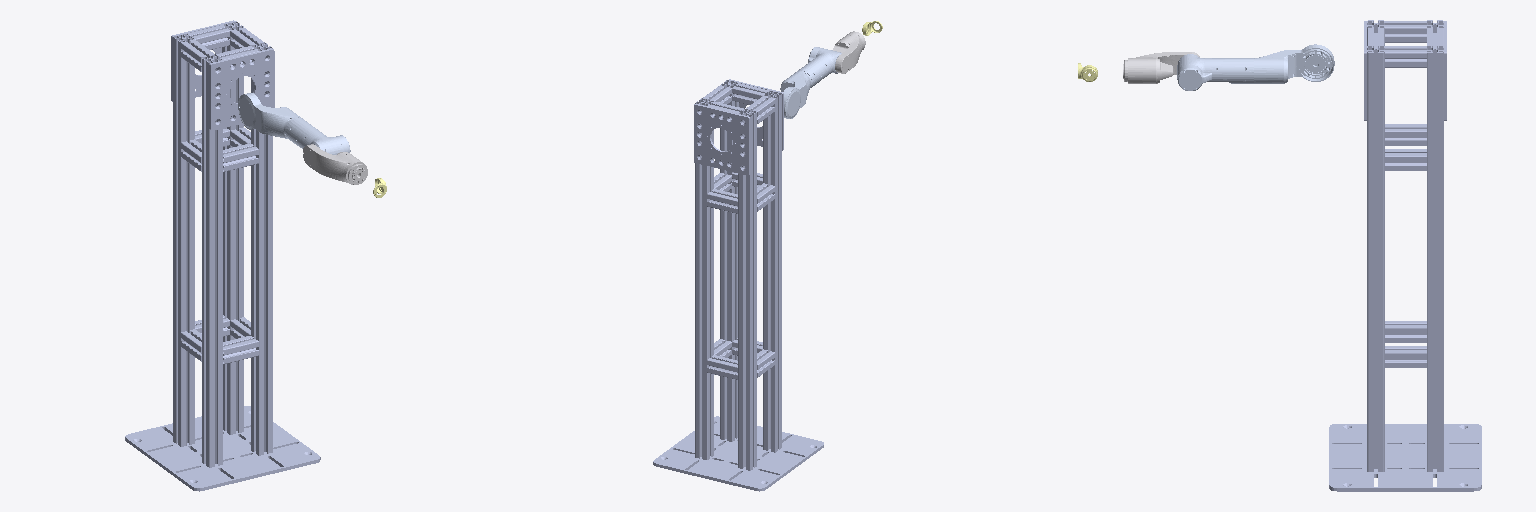
robot.urdf — taihu_arm_0430:
<?xml version="1.0" encoding="utf-8"?>
<!-- This URDF was automatically created by SolidWorks to URDF Exporter! Originally created by Stephen Brawner (brawner@gmail.com) 
     Commit Version: 1.6.0-4-g7f85cfe  Build Version: 1.6.7995.38578
     For more information, please see http://wiki.ros.org/sw_urdf_exporter -->
<robot
  name="taihu_arm_0430">
  <link
    name="base_link">
    <inertial>
      <origin
        xyz="-1.796E-05 6.0012E-06 -0.62307"
        rpy="0 0 0" />
      <mass
        value="8.6788" />
      <inertia
        ixx="0.27993"
        ixy="4.8177E-18"
        ixz="4.8851E-15"
        iyy="0.28183"
        iyz="-1.7321E-14"
        izz="0.043415" />
    </inertial>
    <visual>
      <origin
        xyz="0 0 0"
        rpy="0 0 0" />
      <geometry>
        <mesh
          filename="meshes/base_link.STL" />
      </geometry>
      <material
        name="">
        <color
          rgba="0.79216 0.81961 0.93333 1" />
      </material>
    </visual>
    <collision>
      <origin
        xyz="0 0 0"
        rpy="0 0 0" />
      <geometry>
        <mesh
          filename="meshes/base_link.STL" />
      </geometry>
    </collision>
  </link>




  <link
    name="right-link_arm_base">
    <inertial>
      <origin
        xyz="-4.097E-06 2.2217E-05 0.010632"
        rpy="0 0 0" />
      <mass
        value="1.8275" />
      <inertia
        ixx="0.00066436"
        ixy="5.7569E-08"
        ixz="-8.9382E-08"
        iyy="0.00066638"
        iyz="6.6242E-07"
        izz="0.00074477" />
    </inertial>
    <visual>
      <origin
        xyz="0 0 0"
        rpy="0 0 0" />
      <geometry>
        <mesh
          filename="meshes/right-link_arm_base.STL" />
      </geometry>
      <material
        name="">
        <color
          rgba="0.86667 0.9098 1 1" />
      </material>
    </visual>
    <collision>
      <origin
        xyz="0 0 0"
        rpy="0 0 0" />
      <geometry>
        <mesh
          filename="meshes/right-link_arm_base.STL" />
      </geometry>
    </collision>
  </link>
  <joint
    name="right-joint_arm_base"
    type="fixed">
    <origin
      xyz="0 -0.108 0"
      rpy="1.5708 0 0" />
    <parent
      link="base_link" />
    <child
      link="right-link_arm_base" />
    <axis
      xyz="0 0 0" />
  </joint>
  <link
    name="right-link_arm_1">
    <inertial>
      <origin
        xyz="1.2607E-05 0.001194 0.0088514"
        rpy="0 0 0" />
      <mass
        value="0.71111" />
      <inertia
        ixx="0.00089531"
        ixy="-4.0145E-07"
        ixz="2.0276E-07"
        iyy="0.00095129"
        iyz="-9.0856E-05"
        izz="0.00077837" />
    </inertial>
    <visual>
      <origin
        xyz="0 0 0"
        rpy="0 0 0" />
      <geometry>
        <mesh
          filename="meshes/right-link_arm_1.STL" />
      </geometry>
      <material
        name="">
        <color
          rgba="0.86667 0.9098 1 1" />
      </material>
    </visual>
    <collision>
      <origin
        xyz="0 0 0"
        rpy="0 0 0" />
      <geometry>
        <mesh
          filename="meshes/right-link_arm_1.STL" />
      </geometry>
    </collision>
  </link>
  <joint
    name="right-joint_arm_1"
    type="revolute">
    <origin
      xyz="0 0 0.128"
      rpy="3.1416 0 1.5708" />
    <parent
      link="right-link_arm_base" />
    <child
      link="right-link_arm_1" />
    <axis
      xyz="0 0 1" />
    <limit
      lower="-3.1"
      upper="3.1"
      effort="100"
      velocity="1" />
  </joint>
  <link
    name="right-link_arm_2">
    <inertial>
      <origin
        xyz="1.2945E-05 0.088857 -0.024165"
        rpy="0 0 0" />
      <mass
        value="2.2852" />
      <inertia
        ixx="0.0021126"
        ixy="3.9651E-07"
        ixz="7.5798E-08"
        iyy="0.00051326"
        iyz="-0.00045294"
        izz="0.0021734" />
    </inertial>
    <visual>
      <origin
        xyz="0 0 0"
        rpy="0 0 0" />
      <geometry>
        <mesh
          filename="meshes/right-link_arm_2.STL" />
      </geometry>
      <material
        name="">
        <color
          rgba="0.86667 0.9098 1 1" />
      </material>
    </visual>
    <collision>
      <origin
        xyz="0 0 0"
        rpy="0 0 0" />
      <geometry>
        <mesh
          filename="meshes/right-link_arm_2.STL" />
      </geometry>
    </collision>
  </link>
  <joint
    name="right-joint_arm_2"
    type="revolute">
    <origin
      xyz="0 0 0"
      rpy="-1.5708 0 0" />
    <parent
      link="right-link_arm_1" />
    <child
      link="right-link_arm_2" />
    <axis
      xyz="0 0 1" />
    <limit
      lower="-2.007"
      upper="2.007"
      effort="100"
      velocity="1" />
  </joint>
  <link
    name="right-link_arm_3">
    <inertial>
      <origin
        xyz="0.00035321 0.0021391 0.036651"
        rpy="0 0 0" />
      <mass
        value="0.47387" />
      <inertia
        ixx="0.0011486"
        ixy="-4.7435E-07"
        ixz="7.8389E-07"
        iyy="0.0010776"
        iyz="-4.5978E-05"
        izz="0.00024811" />
    </inertial>
    <visual>
      <origin
        xyz="0 0 0"
        rpy="0 0 0" />
      <geometry>
        <mesh
          filename="meshes/right-link_arm_3.STL" />
      </geometry>
      <material
        name="">
        <color
          rgba="0.86667 0.9098 1 1" />
      </material>
    </visual>
    <collision>
      <origin
        xyz="0 0 0"
        rpy="0 0 0" />
      <geometry>
        <mesh
          filename="meshes/right-link_arm_3.STL" />
      </geometry>
    </collision>
  </link>
  <joint
    name="right-joint_arm_3"
    type="revolute">
    <origin
      xyz="0 0.329 0"
      rpy="1.5708 0 0" />
    <parent
      link="right-link_arm_2" />
    <child
      link="right-link_arm_3" />
    <axis
      xyz="0 0 1" />
    <limit
      lower="-3.1"
      upper="3.1"
      effort="100"
      velocity="1" />
  </joint>
  <link
    name="right-link_arm_4">
    <inertial>
      <origin
        xyz="9.9096E-06 0.094944 -0.019826"
        rpy="0 0 0" />
      <mass
        value="1.38429" />
      <inertia
        ixx="0.0014918"
        ixy="4.3233E-07"
        ixz="2.0932E-08"
        iyy="0.00034865"
        iyz="-0.00031052"
        izz="0.0014896" />
    </inertial>
    <visual>
      <origin
        xyz="0 0 0"
        rpy="0 0 0" />
      <geometry>
        <mesh
          filename="meshes/right-link_arm_4.STL" />
      </geometry>
      <material
        name="">
        <color
          rgba="0.8902 0.8902 0.91373 1" />
      </material>
    </visual>
    <collision>
      <origin
        xyz="0 0 0"
        rpy="0 0 0" />
      <geometry>
        <mesh
          filename="meshes/right-link_arm_4.STL" />
      </geometry>
    </collision>
  </link>
  <joint
    name="right-joint_arm_4"
    type="revolute">
    <origin
      xyz="0 0 0"
      rpy="-1.5708 0 0" />
    <parent
      link="right-link_arm_3" />
    <child
      link="right-link_arm_4" />
    <axis
      xyz="0 0 1" />
    <limit
      lower="-2.53"
      upper="2.05"
      effort="100"
      velocity="1" />
  </joint>
  <link
    name="right-link_arm_5">
    <inertial>
      <origin
        xyz="-0.00086549 -0.0031856 0.058912"
        rpy="0 0 0" />
      <mass
        value="0.3908" />
      <inertia
        ixx="3.6595E-05"
        ixy="-3.188E-08"
        ixz="6.8934E-09"
        iyy="4.7486E-05"
        iyz="2.0611E-06"
        izz="4.2498E-05" />
    </inertial>
    <visual>
      <origin
        xyz="0 0 0"
        rpy="0 0 0" />
      <geometry>
        <mesh
          filename="meshes/right-link_arm_5.STL" />
      </geometry>
      <material
        name="">
        <color
          rgba="1 1 1 1" />
      </material>
    </visual>
    <collision>
      <origin
        xyz="0 0 0"
        rpy="0 0 0" />
      <geometry>
        <mesh
          filename="meshes/right-link_arm_5.STL" />
      </geometry>
    </collision>
  </link>
  <joint
    name="right-joint_arm_5"
    type="revolute">
    <origin
      xyz="0 0.2645 0"
      rpy="1.5708 -1.5708 0" />
    <parent
      link="right-link_arm_4" />
    <child
      link="right-link_arm_5" />
    <axis
      xyz="0 0 1" />
    <limit
      lower="-3.1"
      upper="3.1"
      effort="100"
      velocity="1" />
  </joint>
  <link
    name="right-link_arm_6">
    <inertial>
      <origin
        xyz="6.7734E-05 0.010876 0.00026971"
        rpy="0 0 0" />
      <mass
        value="0.298376" />
      <inertia
        ixx="3.084E-05"
        ixy="-9.6591E-08"
        ixz="1.6252E-08"
        iyy="2.8341E-05"
        iyz="-1.8061E-07"
        izz="3.049E-05" />
    </inertial>
    <visual>
      <origin
        xyz="0 0 0"
        rpy="0 0 0" />
      <geometry>
        <mesh
          filename="meshes/right-link_arm_6.STL" />
      </geometry>
      <material
        name="">
        <color
          rgba="0.79216 0.81961 0.93333 1" />
      </material>
    </visual>
    <collision>
      <origin
        xyz="0 0 0"
        rpy="0 0 0" />
      <geometry>
        <mesh
          filename="meshes/right-link_arm_6.STL" />
      </geometry>
    </collision>
  </link>
  <joint
    name="right-joint_arm_6"
    type="revolute">
    <origin
      xyz="0 0 0"
      rpy="1.5708 1.5708 3.1416" />
    <parent
      link="right-link_arm_5" />
    <child
      link="right-link_arm_6" />
    <axis
      xyz="0 0 -1" />
    <limit
      lower="-0.69"
      upper="0.69"
      effort="100"
      velocity="1" />
  </joint>
  <link
    name="right-link_arm_7">
    <inertial>
      <origin
        xyz="-1.6729E-06 0.010082 0.013139"
        rpy="0 0 0" />
      <mass
        value="0.027272" />
      <inertia
        ixx="1.1686E-05"
        ixy="-5.5819E-10"
        ixz="-2.5012E-11"
        iyy="8.5763E-06"
        iyz="3.4659E-06"
        izz="1.1784E-05" />
    </inertial>
    <visual>
      <origin
        xyz="0 0 0"
        rpy="0 0 0" />
      <geometry>
        <mesh
          filename="meshes/right-link_arm_7.STL" />
      </geometry>
      <material
        name="">
        <color
          rgba="1 1 0.75294 1" />
      </material>
    </visual>
    <collision>
      <origin
        xyz="0 0 0"
        rpy="0 0 0" />
      <geometry>
        <mesh
          filename="meshes/right-link_arm_7.STL" />
      </geometry>
    </collision>
  </link>
  <joint
    name="right-joint_arm_7"
    type="revolute">
    <origin
      xyz="0 0 0"
      rpy="-1.5708 1.5708 3.1416" />
    <parent
      link="right-link_arm_6" />
    <child
      link="right-link_arm_7" />
    <axis
      xyz="0 0 1" />
    <limit
      lower="-1.39"
      upper="1.39"
      effort="100"
      velocity="1" />
  </joint>
  <link
    name="right-link_gripper_base">
    <inertial>
      <origin
        xyz="-0.0044643 -4.9691E-05 0.09294"
        rpy="0 0 0" />
      <mass
        value="0.85687" />
      <inertia
        ixx="9.5509E-05"
        ixy="2.7675E-06"
        ixz="-1.1885E-06"
        iyy="0.00023884"
        iyz="4.2888E-07"
        izz="0.00023197" />
    </inertial>
    <visual>
      <origin
        xyz="0 0 0"
        rpy="0 0 0" />
      <geometry>
        <mesh
          filename="meshes/right-link_gripper_base.STL" />
      </geometry>
      <material
        name="">
        <color
          rgba="0.79216 0.81961 0.93333 1" />
      </material>
    </visual>
    <collision>
      <origin
        xyz="0 0 0"
        rpy="0 0 0" />
      <geometry>
        <mesh
          filename="meshes/right-link_gripper_base.STL" />
      </geometry>
    </collision>
  </link>
  <joint
    name="right-joint_gripper_base"
    type="fixed">
    <origin
      xyz="0 0 0"
      rpy="-1.5708 -1.5708 0" />
    <parent
      link="right-link_arm_7" />
    <child
      link="right-link_gripper_base" />
    <axis
      xyz="0 0 0" />
  </joint>
</robot>

--- Facts derived from the render (not from the file) ---
The picture shows the robot from 3 angles, left to right: view 1: azimuth 30°, elevation 25°; view 2: azimuth 150°, elevation 25°; view 3: azimuth 270°, elevation 25°; orthographic projection.
Robot: taihu_arm_0430 — 10 links, 9 joints (7 revolute, 2 fixed); root link base_link; default pose: every joint at zero.
Links seen in each view (by area): view 1: base_link, right-link_arm_4, right-link_arm_2, right-link_arm_3; view 2: base_link, right-link_arm_2, right-link_arm_4, right-link_arm_3; view 3: base_link, right-link_arm_2, right-link_arm_3, right-link_arm_4.
Boxes of the visible links, <box> form: base_link: <box>125,20,320,491</box>; right-link_arm_4: <box>303,144,367,184</box>; right-link_arm_2: <box>238,93,302,138</box>; right-link_arm_3: <box>285,118,350,154</box>; base_link: <box>653,79,823,491</box>; right-link_arm_2: <box>780,71,811,118</box>; right-link_arm_4: <box>833,31,865,73</box>; right-link_arm_3: <box>798,47,841,87</box>; base_link: <box>1329,20,1481,491</box>; right-link_arm_2: <box>1254,44,1334,83</box>; right-link_arm_3: <box>1177,54,1253,90</box>; right-link_arm_4: <box>1123,52,1199,83</box>.
Size in the robot's own frame: 0.4 by 1.06 by 1.23 metres.
5 mesh visuals loaded from 10 distinct referenced files (5 binary STL); not drawn: 5 (reference not matched to a file when rendering).
